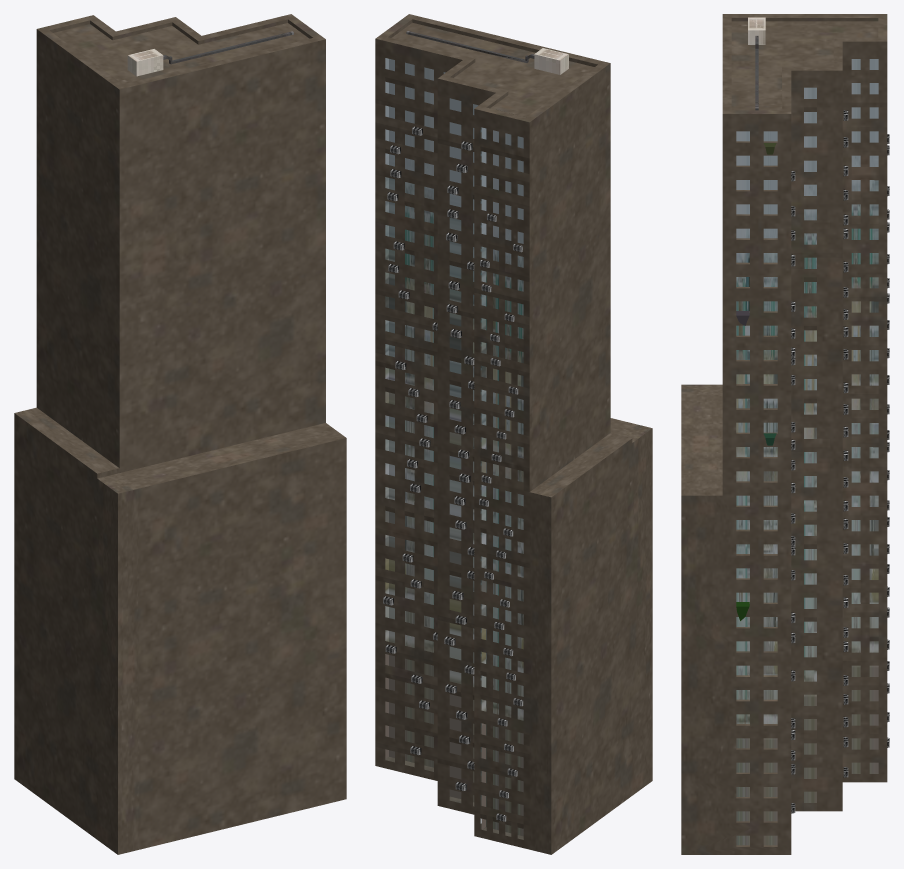
The model's file is BuildingTwo.glb.
The picture shows the model from 3 angles, left to right: view 1: azimuth 30°, elevation 25°; view 2: azimuth 150°, elevation 25°; view 3: azimuth 270°, elevation 25°; orthographic projection. The views are drawn at different scales.
Parts seen in each view (by area): view 1: Cube, Cube.004; view 2: Cube, images.001, images.005, images.002, Cube.002, Cube.003, Cube.001, images.004, images, Cube.004, Cube.005; view 3: Cube, images, images.004, images.003, Cube.002, Cube.001, Cube.003, Cube.004.
Boxes of the visible parts, box(x1,y1,x2,y2) form: Cube: box(14, 14, 346, 854); Cube.004: box(127, 49, 163, 76); Cube: box(375, 14, 652, 854); images.001: box(389, 59, 445, 767); images.005: box(486, 128, 523, 836); images.002: box(449, 98, 481, 802); Cube.002: box(444, 141, 474, 790); Cube.003: box(479, 213, 523, 821); Cube.001: box(383, 126, 437, 755); images.004: box(481, 127, 485, 829); images: box(385, 58, 388, 758); Cube.004: box(534, 48, 568, 74); Cube.005: box(406, 31, 534, 62); Cube: box(681, 14, 887, 854); images: box(736, 131, 777, 845); images.004: box(851, 59, 878, 773); images.003: box(804, 87, 816, 802); Cube.002: box(843, 110, 848, 777); Cube.001: box(791, 171, 795, 813); Cube.003: box(887, 134, 889, 747); Cube.004: box(748, 17, 765, 44).
Bounding box in the file's own units: 77.04 × 242 × 60.61.
17 materials, 12 textured.
